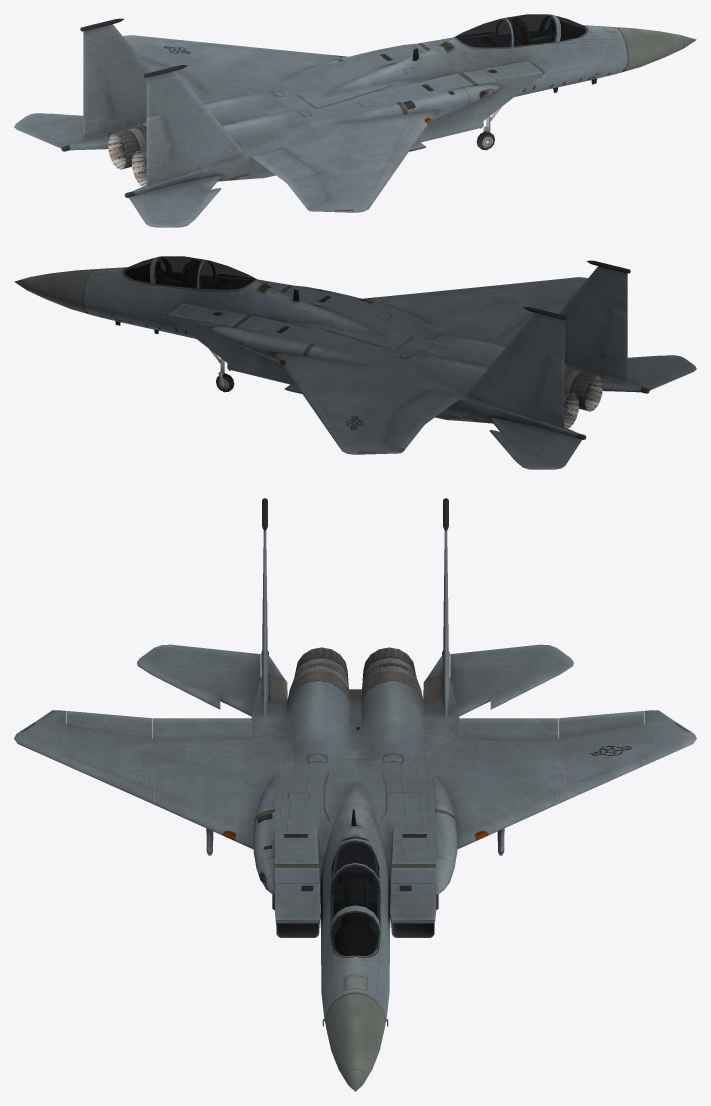
File: industrial_fighter_f15c.glb
3 renders of one model, top to bottom at view 1: azimuth 30°, elevation 25°; view 2: azimuth 150°, elevation 25°; view 3: azimuth 270°, elevation 25°, orthographic. The views are drawn at different scales.
Visible parts, largest first — view 1: mesh_176, mesh_156, mesh_177; view 2: mesh_176, mesh_156, mesh_177; view 3: mesh_176, mesh_156.
Part boxes in pixels (x1,y1,x2,y2): mesh_176: (14, 14, 696, 227); mesh_156: (455, 14, 586, 47); mesh_177: (476, 107, 501, 150); mesh_176: (14, 256, 696, 469); mesh_156: (124, 256, 255, 289); mesh_177: (209, 349, 234, 392); mesh_176: (14, 498, 696, 1091); mesh_156: (330, 840, 380, 956).
Bounding box in the file's own units: 8 × 2.36 × 5.39.
2 materials, 2 textured.
